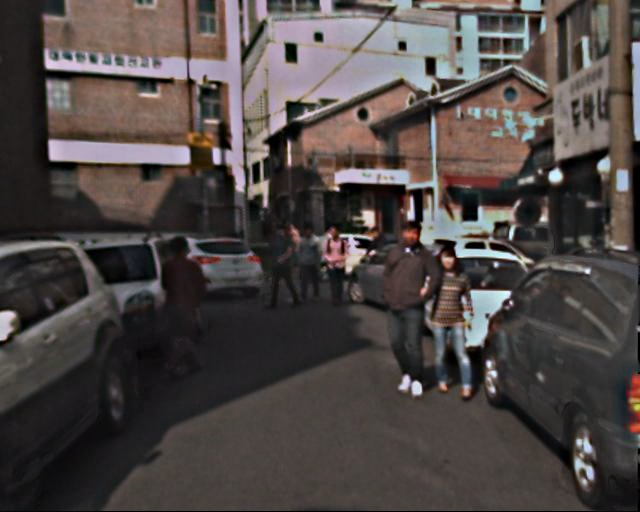person: (373, 221, 446, 399), (421, 246, 483, 396), (153, 236, 212, 379), (262, 224, 297, 310), (319, 223, 353, 306), (291, 222, 324, 302), (366, 226, 389, 282)
